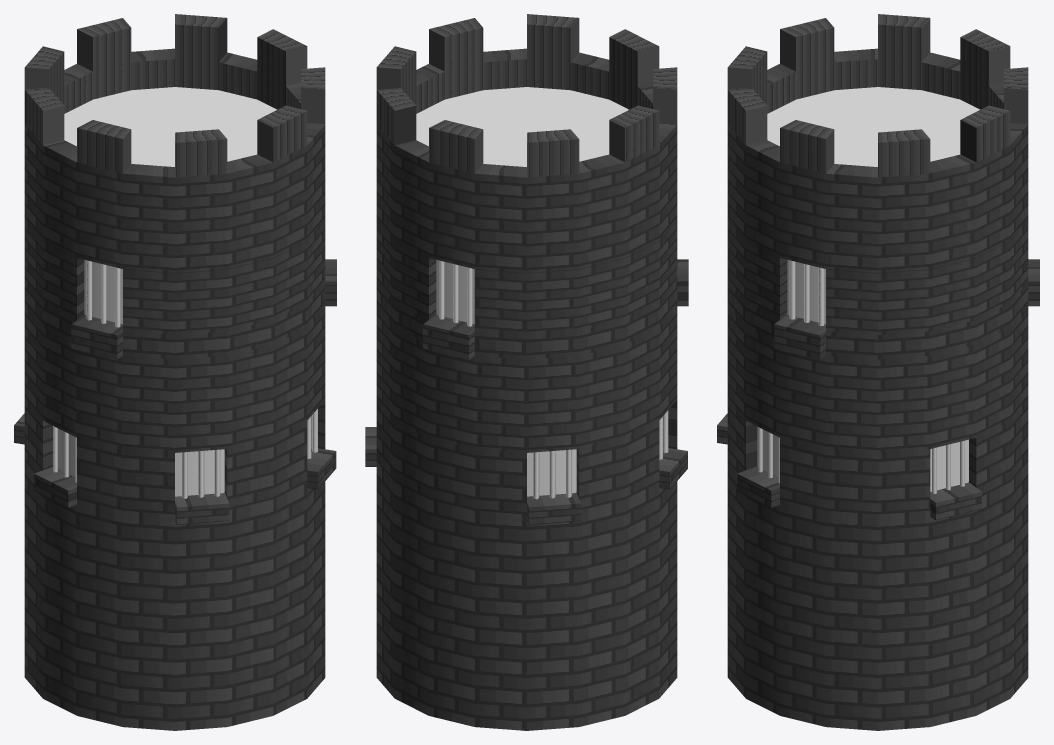
File: y4tower.fbx
The picture shows the model from 3 angles, left to right: view 1: azimuth 30°, elevation 25°; view 2: azimuth 150°, elevation 25°; view 3: azimuth 270°, elevation 25°; orthographic projection.
Parts seen in each view (by area): view 1: Cylinder001, Cylinder002; view 2: Cylinder001, Cylinder002; view 3: Cylinder001, Cylinder002.
Part boxes in pixels (x1,y1,x2,y2): Cylinder001: [14, 14, 336, 730]; Cylinder002: [57, 87, 311, 496]; Cylinder001: [365, 14, 688, 730]; Cylinder002: [416, 87, 628, 496]; Cylinder001: [717, 14, 1039, 730]; Cylinder002: [757, 87, 979, 491].
Bounding box in the file's own units: 1637 × 3346 × 1665.
8 materials, 8 textured.
